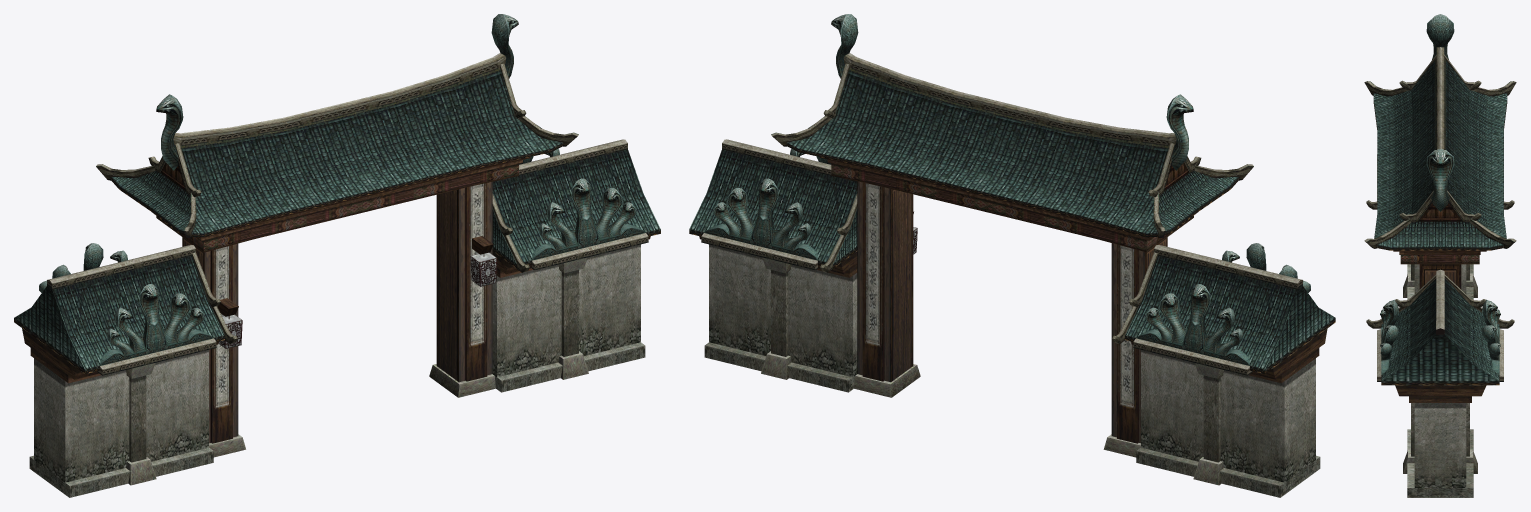
File: gls_door_01.fbx
The picture shows the model from 3 angles, left to right: view 1: azimuth 30°, elevation 25°; view 2: azimuth 150°, elevation 25°; view 3: azimuth 270°, elevation 25°; orthographic projection. The views are drawn at different scales.
Visible parts, largest first — view 1: gls_door_01; view 2: gls_door_01; view 3: gls_door_01.
Part boxes in pixels (<box>): gls_door_01: <box>14,14,660,497</box>; gls_door_01: <box>689,14,1335,497</box>; gls_door_01: <box>1364,14,1516,497</box>.
Bounding box in the file's own units: 20 × 11.9 × 5.49.
